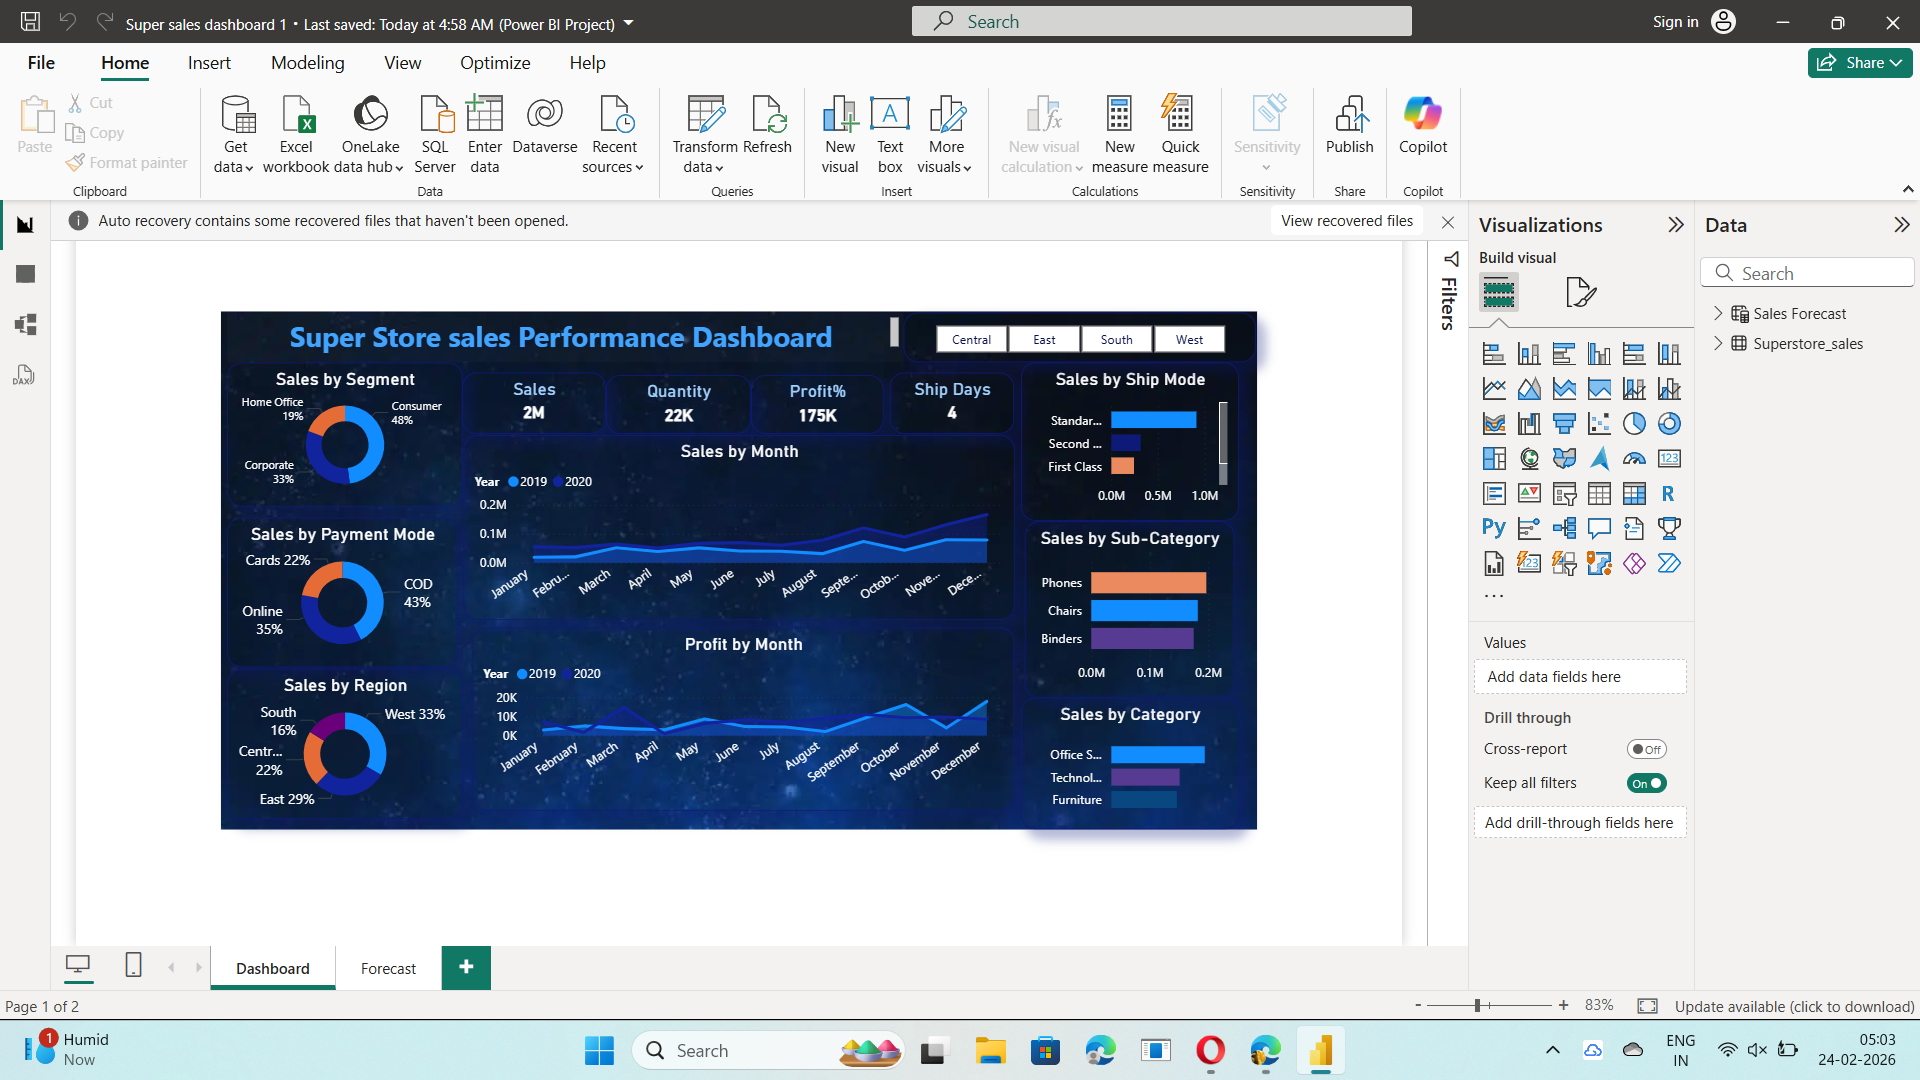

What the dashboard file says about the page in this screenshot:
{"tool":"powerbi","page":{"name":"Dashboard","canvas":[1280,720],"ordinal":0},"visuals":[{"type":"textbox","box":[146,109,653,48],"z":0},{"type":"clusteredBarChart","title":"Sales by Category","fields":{"Category":["Super Store Sales Performance.Category"],"Y":["Sum(Super Store Sales Performance.Sales)"]},"box":[912,480,210,127],"z":1000},{"type":"clusteredBarChart","title":" Sales by Sub-Category","fields":{"Y":["Sum(Super Store Sales Performance.Sales)"],"Category":["Super Store Sales Performance.Sub-Category"]},"box":[916,310,202,170],"z":2000},{"type":"clusteredBarChart","title":"Sales by Ship Mode","fields":{"Y":["Sum(Super Store Sales Performance.Sales)"],"Category":["Super Store Sales Performance.Ship Mode"]},"box":[912,157,210,153],"z":3000},{"type":"areaChart","title":" Sales by Month ","fields":{"Y":["Sum(Super Store Sales Performance.Sales)"],"Category":["Super Store Sales Performance.Order Date.Variation.Date Hierarchy.Month"],"Series":["Super Store Sales Performance.Order Date.Variation.Date Hierarchy.Year"]},"box":[374,227,532,178],"z":4000},{"type":"areaChart","title":"Profit by Month ","fields":{"Category":["Super Store Sales Performance.Order Date.Variation.Date Hierarchy.Month","Super Store Sales Performance.Order Date.Variation.Date Hierarchy.Day"],"Series":["Super Store Sales Performance.Order Date.Variation.Date Hierarchy.Year"],"Y":["Sum(Super Store Sales Performance.Profit)"]},"box":[382,412,523,177],"z":5000},{"type":"donutChart","title":"Sales by Segment","fields":{"Y":["Sum(Super Store Sales Performance.Sales)"],"Category":["Super Store Sales Performance.Segment"]},"box":[146,157,227,139],"z":6000},{"type":"donutChart","title":" Sales by Payment Mode","fields":{"Y":["Sum(Super Store Sales Performance.Sales)"],"Category":["Super Store Sales Performance.Payment Mode"]},"box":[146,307,222,145],"z":7000},{"type":"slicer","fields":{"Values":["Super Store Sales Performance.Region"]},"box":[799,109,340,48],"z":8000},{"type":"card","title":"Sales","fields":{"Values":["Sum(Super Store Sales Performance.Sales)"]},"box":[373,167,138,59],"z":9000},{"type":"card","title":"Quantity","fields":{"Values":["Sum(Super Store Sales Performance.Quantity)"]},"box":[511,169,140,57],"z":10000},{"type":"card","title":"Profit%","fields":{"Values":["Sum(Super Store Sales Performance.Profit)"]},"box":[651,169,128,57],"z":11000},{"type":"card","title":"Ship  Days","fields":{"Values":["Avg(Superstore_sales.AvgDelivery)"]},"box":[785,167,120,59],"z":12000},{"type":"donutChart","title":" Sales by Region","fields":{"Y":["Sum(Super Store Sales Performance.Sales)"],"Category":["Superstore_sales.Region"]},"box":[146,452,227,145],"z":13000}]}

Visuals, with their boxes on the page's 1280x720 design canvas (x1, y1, x2, y2). These are canvas units, not pixel positions in the 1920x1080 screenshot, which may show the page scaled, cropped or inside an application window:
textbox: (x1=146, y1=109, x2=799, y2=157)
"Sales by Category" clusteredBarChart: (x1=912, y1=480, x2=1122, y2=607)
" Sales by Sub-Category" clusteredBarChart: (x1=916, y1=310, x2=1118, y2=480)
"Sales by Ship Mode" clusteredBarChart: (x1=912, y1=157, x2=1122, y2=310)
" Sales by Month " areaChart: (x1=374, y1=227, x2=906, y2=405)
"Profit by Month " areaChart: (x1=382, y1=412, x2=905, y2=589)
"Sales by Segment" donutChart: (x1=146, y1=157, x2=373, y2=296)
" Sales by Payment Mode" donutChart: (x1=146, y1=307, x2=368, y2=452)
slicer - Super Store Sales Performance.Region: (x1=799, y1=109, x2=1139, y2=157)
"Sales" card: (x1=373, y1=167, x2=511, y2=226)
"Quantity" card: (x1=511, y1=169, x2=651, y2=226)
"Profit%" card: (x1=651, y1=169, x2=779, y2=226)
"Ship  Days" card: (x1=785, y1=167, x2=905, y2=226)
" Sales by Region" donutChart: (x1=146, y1=452, x2=373, y2=597)
